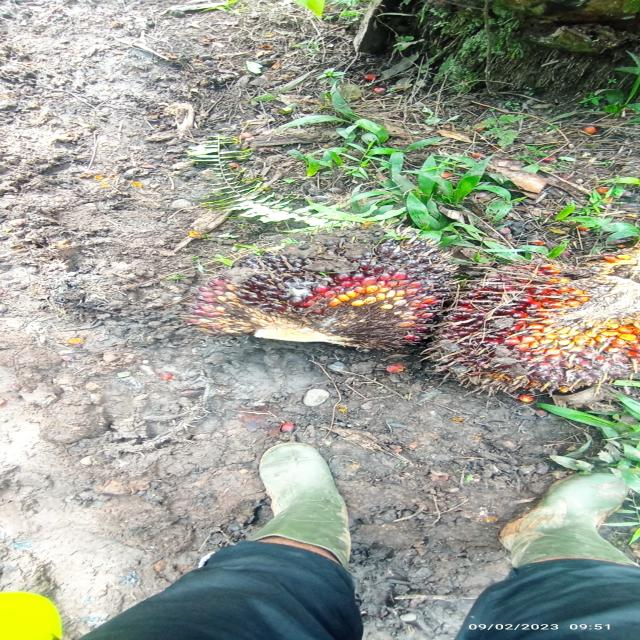fraksi 00: (159, 210, 465, 375)
fraksi 1: (435, 234, 640, 447)
